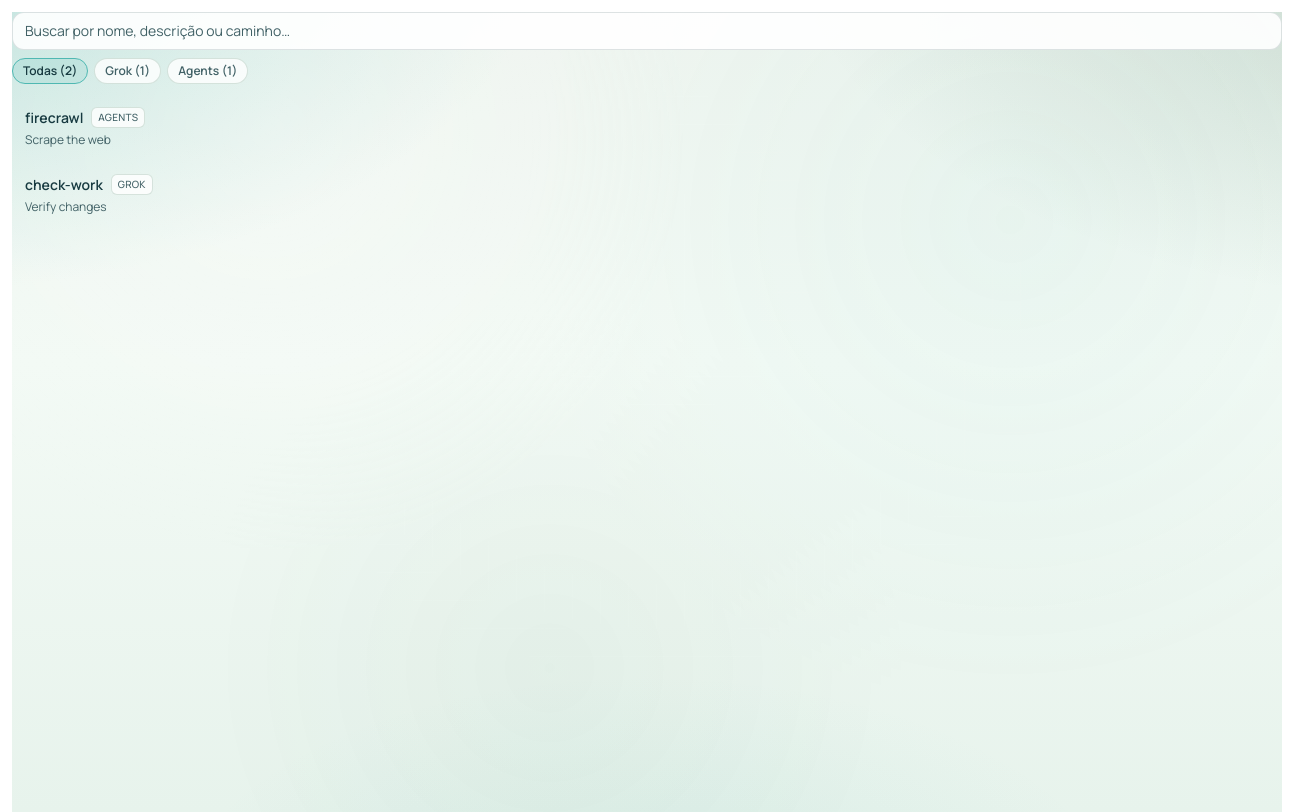
Test case: SkillList › shows empty state when no skills match
Type "zzzz-no-match" into the search field. click: [647, 31]
box: 12,12 -> 1282,50
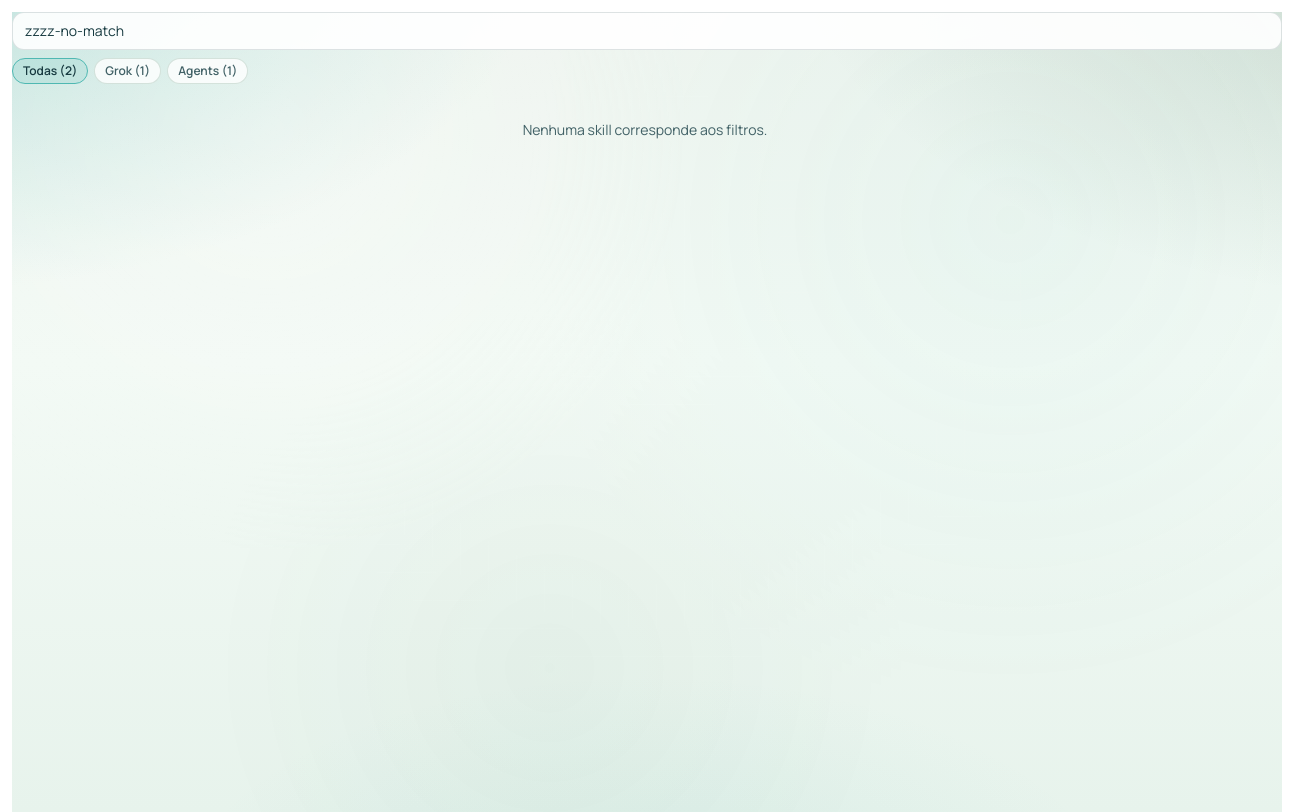
Expected: the list item "Nenhuma skill corresponde aos filtros." is shown, 523,120 -> 767,139
